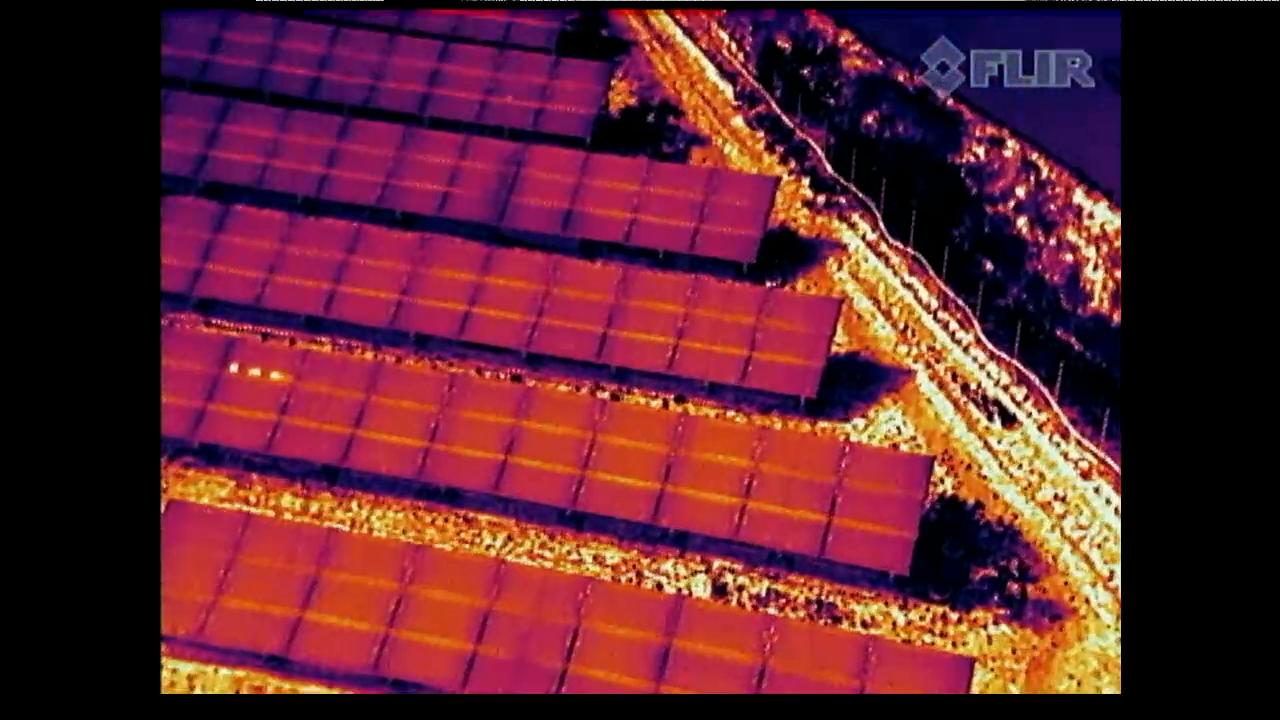hotspot: (194, 339, 305, 453)
